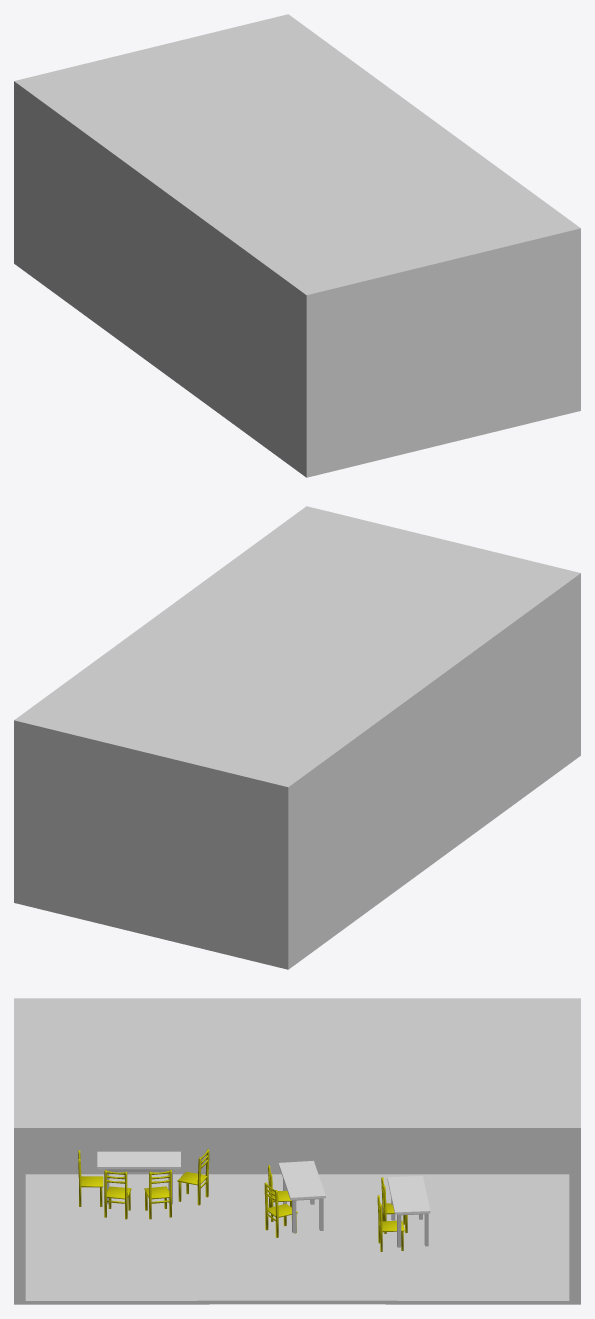
Rendered from BAStage.fbx.
3 renders of one model, top to bottom at view 1: azimuth 30°, elevation 25°; view 2: azimuth 150°, elevation 25°; view 3: azimuth 270°, elevation 25°, orthographic. The views are drawn at different scales.
Visible parts, largest first — view 1: Building.003, Building; view 2: Building.003, Building; view 3: Building, Building.001, Building.003, Building.002, Table, Table.001, Table.002, Chair.001, Chair.002, Chair.003, Chair.005, Chair (+1 smaller).
Boxes of the visible parts, bbox=[...] form: Building.003: bbox=[14, 81, 580, 477]; Building: bbox=[14, 14, 580, 295]; Building.003: bbox=[14, 573, 580, 969]; Building: bbox=[14, 506, 580, 787]; Building: bbox=[14, 998, 580, 1131]; Building.001: bbox=[15, 1174, 579, 1304]; Building.003: bbox=[14, 1128, 580, 1304]; Building.002: bbox=[225, 1255, 360, 1304]; Table: bbox=[97, 1151, 180, 1204]; Table.001: bbox=[278, 1160, 325, 1232]; Table.002: bbox=[387, 1176, 430, 1247]; Chair.001: bbox=[104, 1170, 131, 1219]; Chair.002: bbox=[144, 1170, 171, 1219]; Chair.003: bbox=[177, 1149, 209, 1205]; Chair.005: bbox=[264, 1182, 297, 1237]; Chair: bbox=[78, 1150, 103, 1206].
Bounding box in the file's own units: 4.56 × 2.9 × 8.42.
